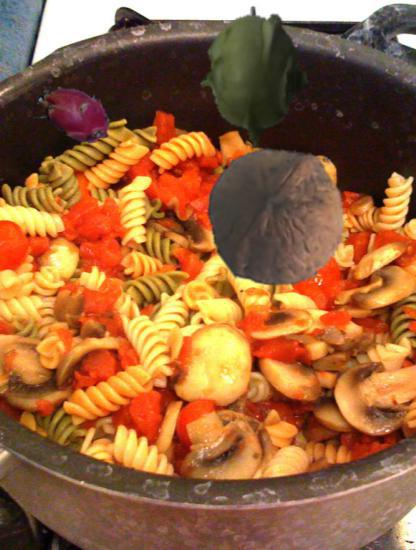Kohlrabi: (186, 11, 325, 150)
Pitahaya: (37, 75, 116, 154)
Walnut: (204, 145, 348, 289)
